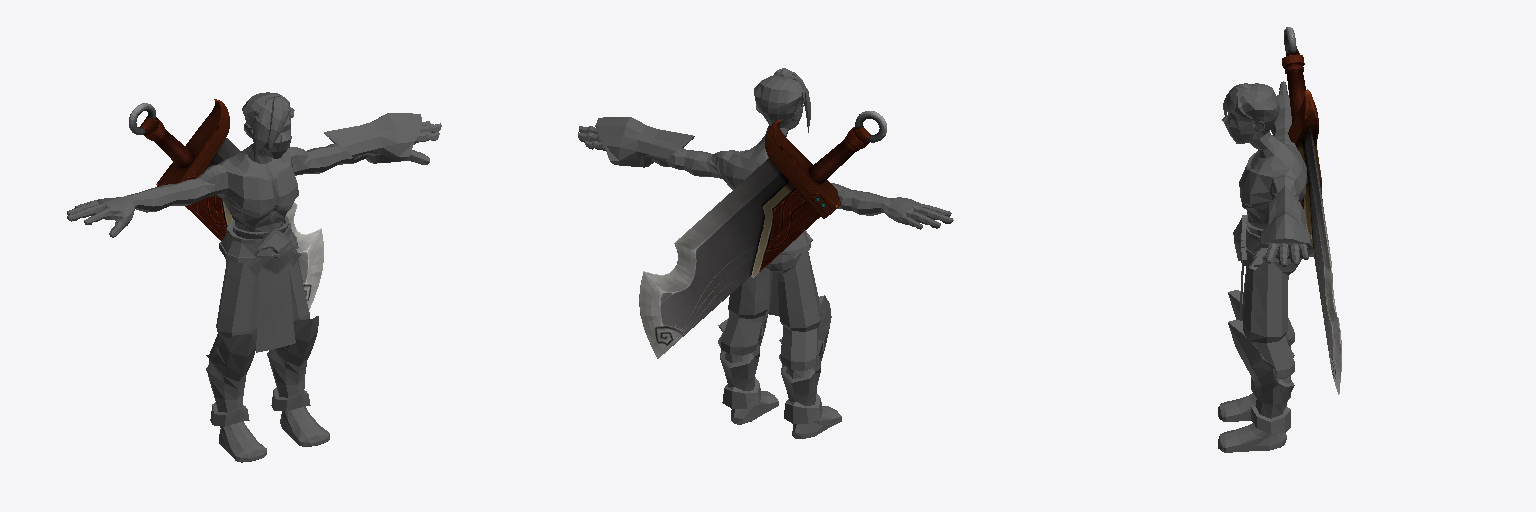
3 views of the same model, side by side, from view 1: azimuth 30°, elevation 25°; view 2: azimuth 150°, elevation 25°; view 3: azimuth 270°, elevation 25° (orthographic).
Visible parts, largest first — view 1: Boy_Untitled.001, Sword_Untitled.002, Cloth_Untitled.003, Glove_Untitled; view 2: Boy_Untitled.001, Sword_Untitled.002, Glove_Untitled; view 3: Boy_Untitled.001, Sword_Untitled.002, Glove_Untitled, Cloth_Untitled.003.
Part boxes in pixels (left/top/right/bottom): Boy_Untitled.001: left=67, top=92, right=441, bottom=462; Sword_Untitled.002: left=129, top=99, right=323, bottom=309; Cloth_Untitled.003: left=247, top=227, right=300, bottom=352; Glove_Untitled: left=324, top=113, right=421, bottom=163; Boy_Untitled.001: left=578, top=68, right=953, bottom=438; Sword_Untitled.002: left=639, top=111, right=886, bottom=358; Glove_Untitled: left=596, top=117, right=694, bottom=167; Boy_Untitled.001: left=1218, top=81, right=1308, bottom=452; Sword_Untitled.002: left=1282, top=27, right=1341, bottom=394; Glove_Untitled: left=1254, top=186, right=1315, bottom=258; Cloth_Untitled.003: left=1233, top=215, right=1246, bottom=320.
Size of the model in its own units: 1.32 by 1.18 by 0.3807.
Materials: 3 (1 with a texture image).